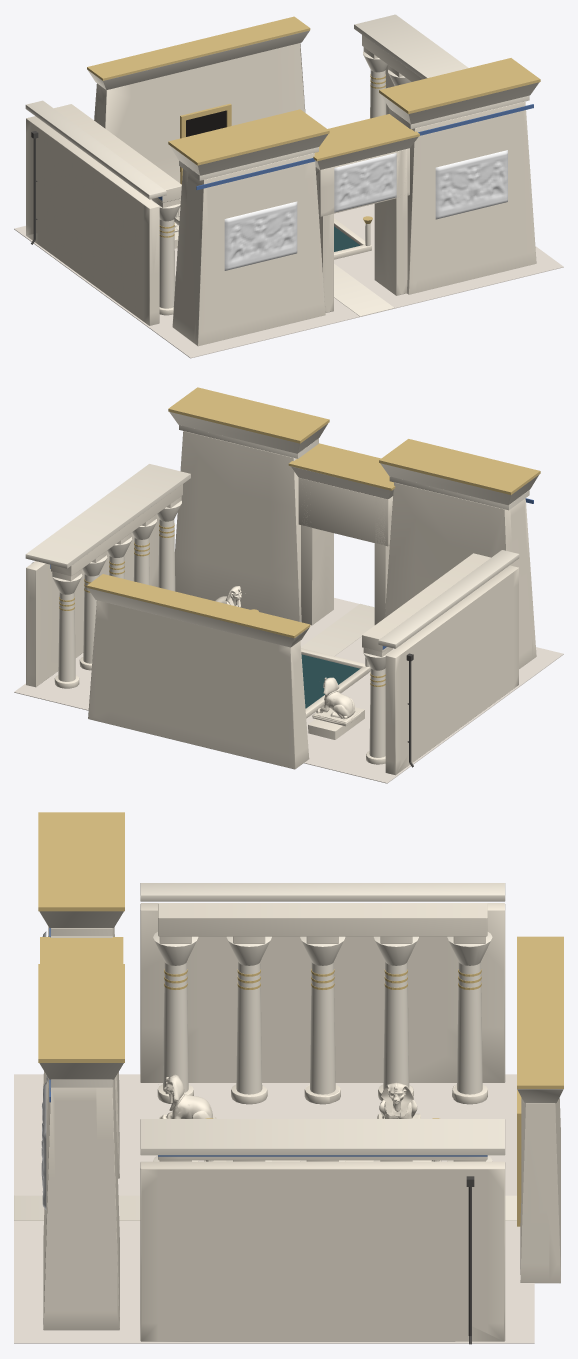
The model's file is egyptian-gardens.glb.
3 renders of one model, top to bottom at view 1: azimuth 30°, elevation 25°; view 2: azimuth 150°, elevation 25°; view 3: azimuth 270°, elevation 25°, orthographic. The views are drawn at different scales.
Visible parts, largest first — view 1: gardens_stone, gardens_trim, gardens_gold, merged_gardens_relief_egypt-wingedsun.001, gardens_floor, merged_gardens_relief_egypt-wingedsun, gardens_lapis, gardens_shadow; view 2: gardens_stone, gardens_trim, gardens_gold, gardens_floor, merged_gardens_stone, gardens_water; view 3: gardens_stone, gardens_trim, gardens_gold, gardens_floor, merged_gardens_stone, gardens_lapis, detail_gardens_pipe.
Part boxes in pixels (x1,y1,x2,y2): gardens_stone: (26,35,536,346); gardens_trim: (25,14,539,316); gardens_gold: (87,16,540,237); merged_gardens_relief_egypt-wingedsun.001: (224,150,507,270); gardens_floor: (14,200,563,358); merged_gardens_relief_egypt-wingedsun: (334,153,396,212); gardens_lapis: (158,104,533,200); gardens_shadow: (186,110,226,136); gardens_stone: (26,431,536,775); gardens_trim: (25,412,538,757); gardens_gold: (59,387,540,686); gardens_floor: (14,598,563,783); merged_gardens_stone: (215,586,360,726); gardens_water: (301,654,359,708); gardens_stone: (43,903,560,1341); gardens_trim: (14,883,563,1220); gardens_gold: (38,812,563,1226); gardens_floor: (14,1074,534,1343); merged_gardens_stone: (158,1074,420,1118); gardens_lapis: (49,928,487,1156); detail_gardens_pipe: (466,1176,474,1344).
Size of the model in its own units: 22.17 by 10.27 by 18.7.
